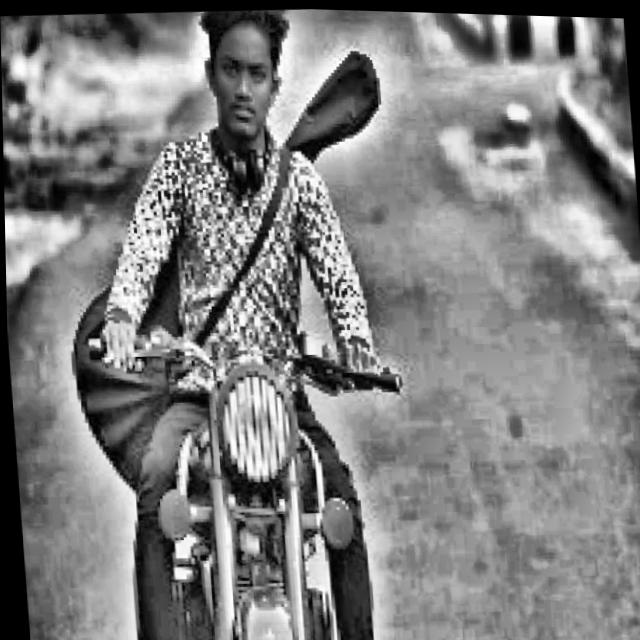motorcycle: (72, 300, 436, 640)
